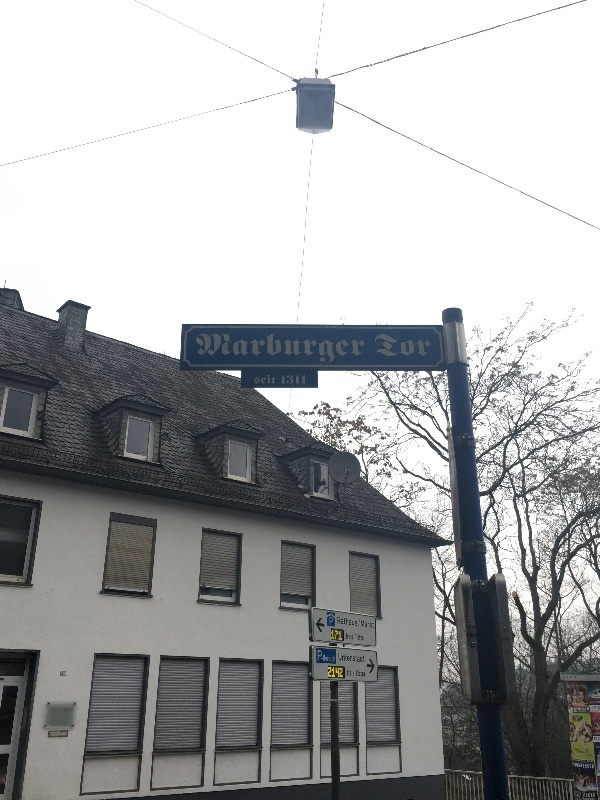text: (209, 331, 224, 365), (225, 331, 240, 365), (241, 331, 256, 365), (257, 331, 272, 365), (273, 331, 288, 365), (289, 331, 304, 365), (305, 331, 320, 365), (321, 331, 336, 365), (337, 331, 352, 365), (353, 331, 365, 365), (197, 331, 208, 365), (385, 334, 400, 357), (401, 334, 416, 357), (417, 334, 430, 357), (375, 334, 384, 357), (321, 650, 336, 663), (289, 375, 304, 385), (338, 617, 352, 627), (257, 375, 272, 384), (339, 653, 352, 663), (570, 723, 576, 743), (353, 653, 365, 663), (577, 762, 592, 769), (355, 633, 368, 641), (356, 670, 368, 677), (328, 667, 336, 677), (281, 375, 288, 385), (359, 620, 368, 627), (361, 620, 368, 629), (583, 791, 592, 798), (337, 667, 343, 677), (578, 708, 592, 712), (577, 682, 585, 689), (330, 617, 336, 626), (353, 617, 358, 627), (331, 630, 336, 640), (337, 630, 342, 640), (369, 620, 374, 629), (571, 682, 576, 689), (347, 633, 352, 640), (594, 737, 600, 742), (348, 669, 352, 676), (273, 375, 276, 384), (318, 650, 320, 663), (594, 705, 600, 709), (573, 762, 576, 769), (593, 791, 596, 798), (577, 723, 578, 743), (254, 375, 256, 384), (353, 669, 355, 676), (305, 375, 306, 385), (62, 671, 64, 676), (65, 671, 67, 676), (593, 762, 594, 769), (591, 706, 592, 708)
